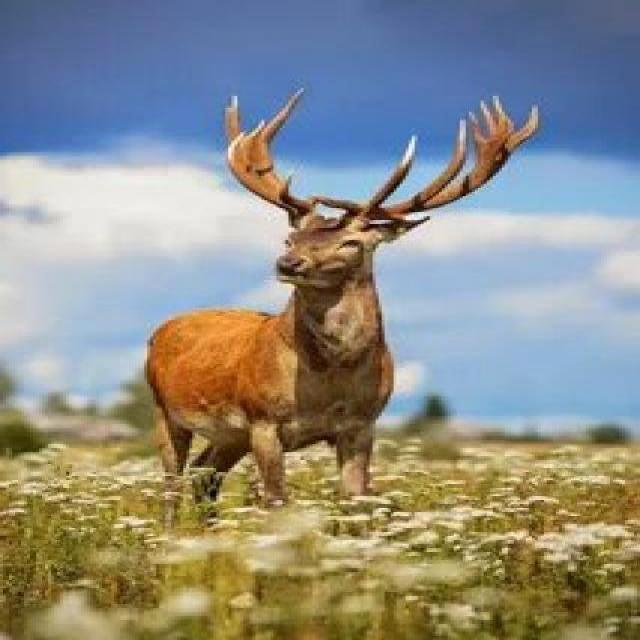deer: (116, 72, 568, 523)
